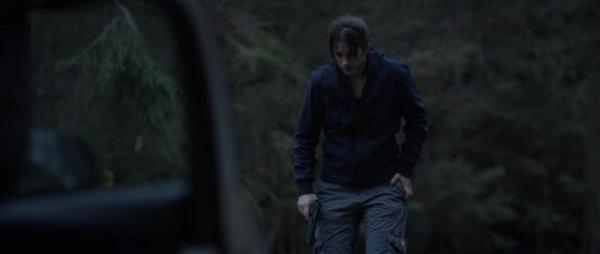Gun: (305, 200, 321, 245)
